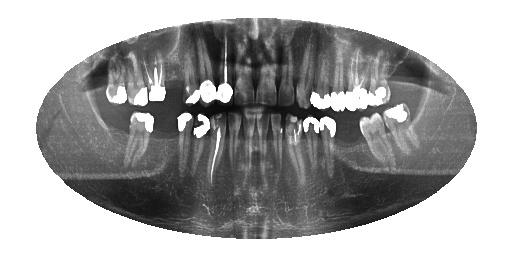Fillings: (383, 102, 426, 156), (120, 108, 155, 171), (189, 112, 210, 182), (310, 46, 332, 110), (173, 111, 193, 179), (125, 51, 149, 107), (319, 116, 338, 179), (303, 113, 321, 176), (105, 57, 128, 106), (374, 51, 394, 106), (199, 48, 218, 104), (332, 43, 347, 111), (183, 52, 200, 107)
Implant: (344, 50, 369, 112), (208, 115, 228, 189), (217, 29, 234, 105), (147, 51, 168, 105)
